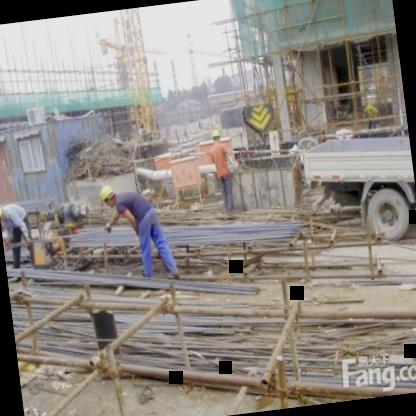helmet: (96, 183, 120, 208), (208, 126, 222, 144), (0, 201, 6, 222)
